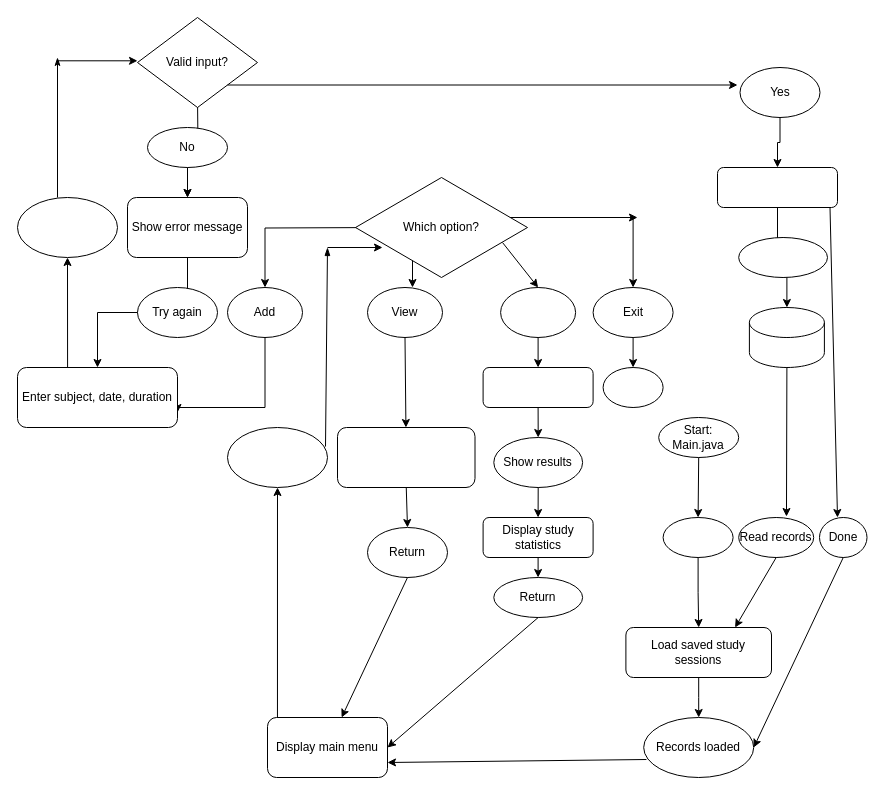
Image size: 885x795. Some labels were removed from this diagram. Here are the shapes that lost their labels. From the top down, the centre of each, then its label:
At (x=777, y=187): "Save study session".
At (x=67, y=227): "Check details".
At (x=783, y=257): "Write record".
At (x=538, y=312): "Statistics".
At (x=786, y=337): "sessions.csv".
At (x=537, y=387): "Calculate hours by subject".
At (x=632, y=387): "End".
At (x=277, y=457): "User enters choice".
At (x=405, y=457): "Display saved sessions".
At (x=697, y=537): "Initialize".
